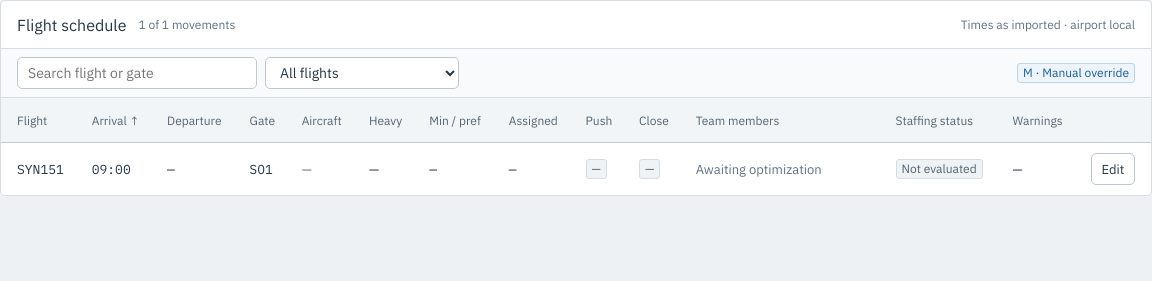
Test case: supervisor presentation › filters actual flights and keeps not-evaluated staffing neutral
The width and height of the screenshot is (1152, 281).
Expected: the text "Not evaluated" is shown, left=896, top=159, right=983, bottom=179
Type "not-a-flight" into the field named "Search flights" at {"x": 137, "y": 73}, box left=17, top=57, right=257, bottom=89
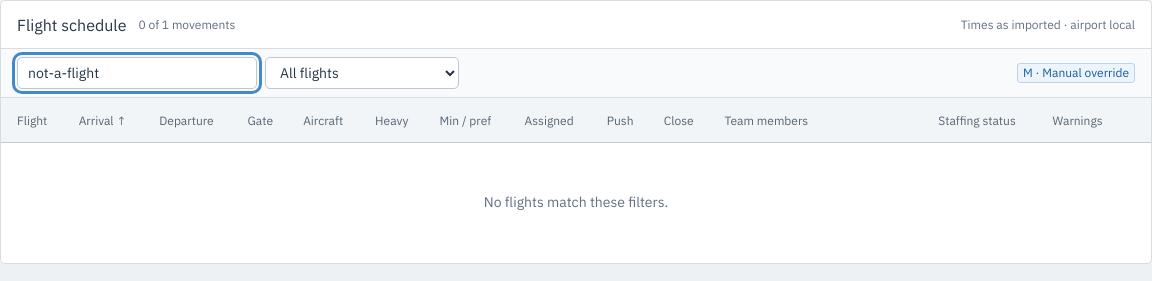
Result: the text "No flights match these filters." is shown at left=484, top=193, right=668, bottom=211
